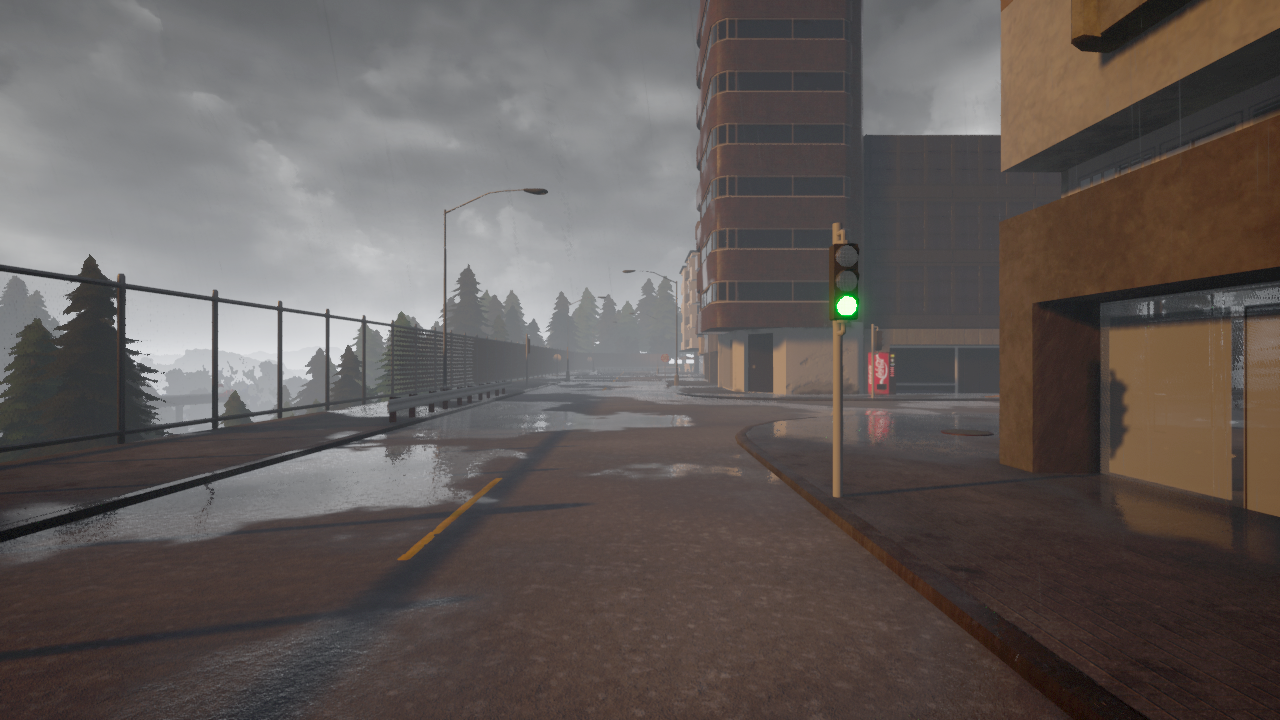green: (827, 240, 860, 320)
